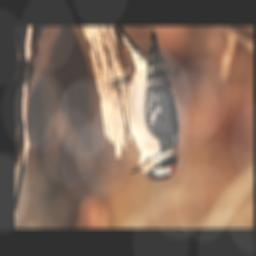Woodpecker: (105, 29, 181, 184)
